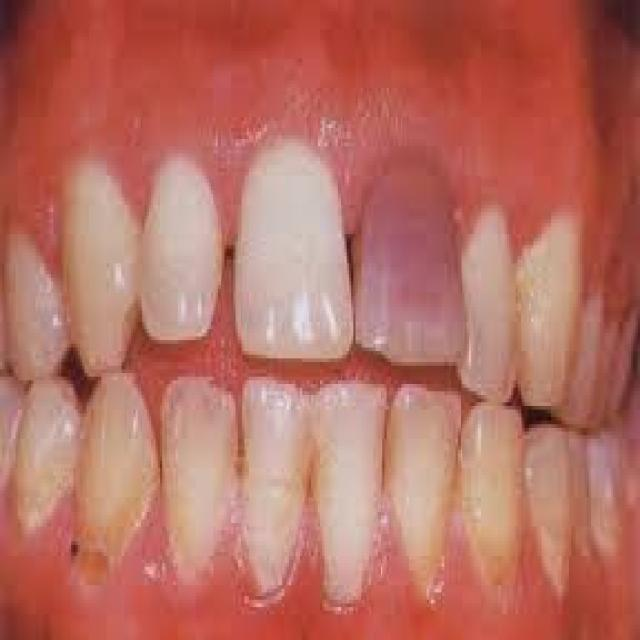Tooth Discoloration: (354, 142, 472, 366)
